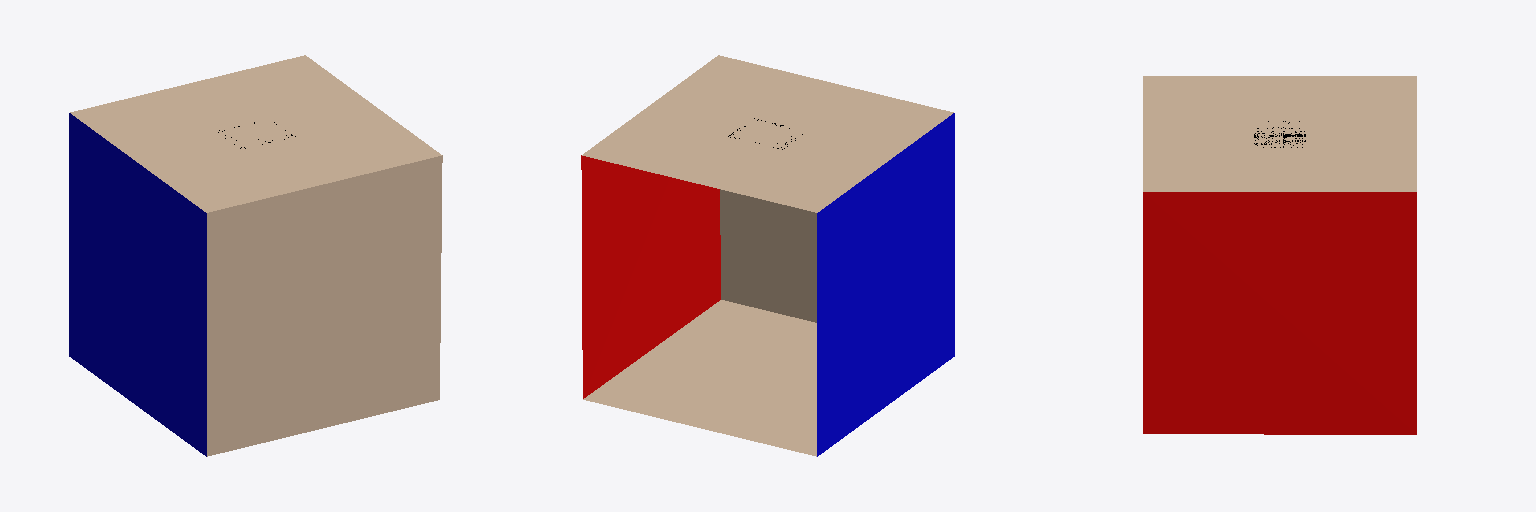
The model's file is cbox2.obj.
The picture shows the model from 3 angles: view 1: azimuth 30°, elevation 25°; view 2: azimuth 150°, elevation 25°; view 3: azimuth 270°, elevation 25°; orthographic projection.
Parts seen in each view (by area): view 1: cbox:cbox_back_mesh, cbox:cbox_greenwall_mesh, cbox:cbox_ceiling_mesh; view 2: cbox:cbox_greenwall_mesh, cbox:cbox_ceiling_mesh, cbox:cbox_redwall_mesh, cbox:cbox_floor_mesh, cbox:cbox_back_mesh; view 3: cbox:cbox_redwall_mesh, cbox:cbox_ceiling_mesh.
Boxes of the visible parts, <box> form: cbox:cbox_back_mesh: <box>207,155,442,456</box>; cbox:cbox_greenwall_mesh: <box>69,113,206,456</box>; cbox:cbox_ceiling_mesh: <box>70,55,441,212</box>; cbox:cbox_greenwall_mesh: <box>817,113,954,456</box>; cbox:cbox_ceiling_mesh: <box>582,55,953,212</box>; cbox:cbox_redwall_mesh: <box>581,155,720,398</box>; cbox:cbox_floor_mesh: <box>583,300,816,456</box>; cbox:cbox_back_mesh: <box>720,189,816,322</box>; cbox:cbox_redwall_mesh: <box>1143,192,1416,434</box>; cbox:cbox_ceiling_mesh: <box>1143,76,1416,191</box>.
Bounding box in the file's own units: 556 × 549 × 559.